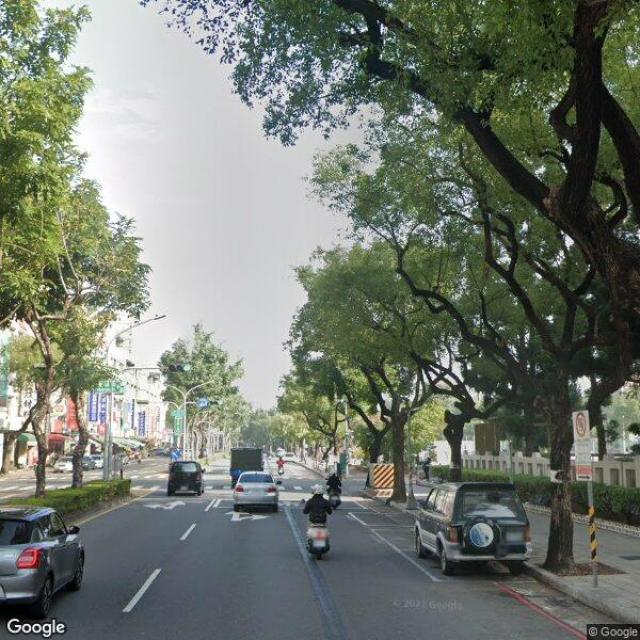Legalparking: (413, 481, 531, 574)
